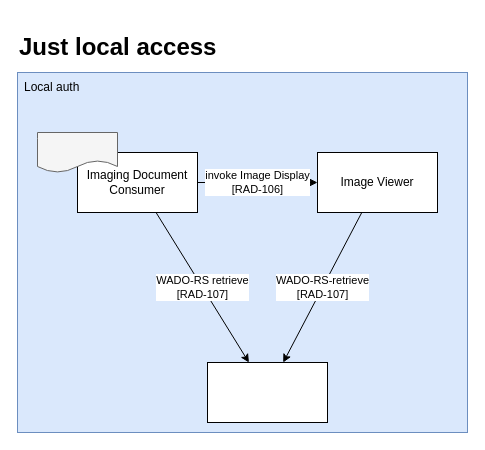
Image size: 485x450. Some labels were removed from this diagram. The shapes that lost their labels are listed below. From the top down, each one's centre as x and y in pixels, then its label:
At (77,152): "manifest".
At (267,392): "Imaging Document Source (local)".
